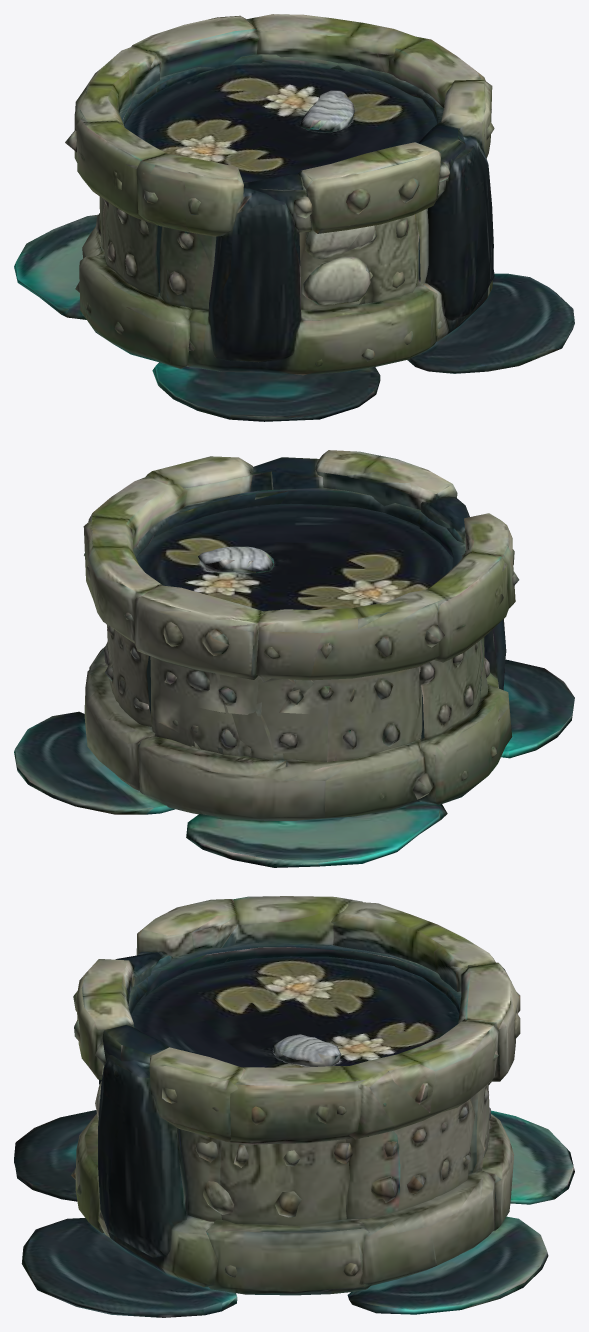
The model's file is cs_poco_lirio.glb.
3 views of the same model, one above another, from view 1: azimuth 30°, elevation 25°; view 2: azimuth 150°, elevation 25°; view 3: azimuth 270°, elevation 25° (orthographic). The views are drawn at different scales.
Visible parts, largest first — view 1: mesh_node; view 2: mesh_node; view 3: mesh_node.
Boxes of the visible parts, x1,y1,x2,y2 form: mesh_node: (14,14,574,421); mesh_node: (14,450,574,867); mesh_node: (14,896,574,1317).
Bounding box in the file's own units: 0.3066 × 0.1556 × 0.3516.
Materials: 1 (1 with a texture image).
